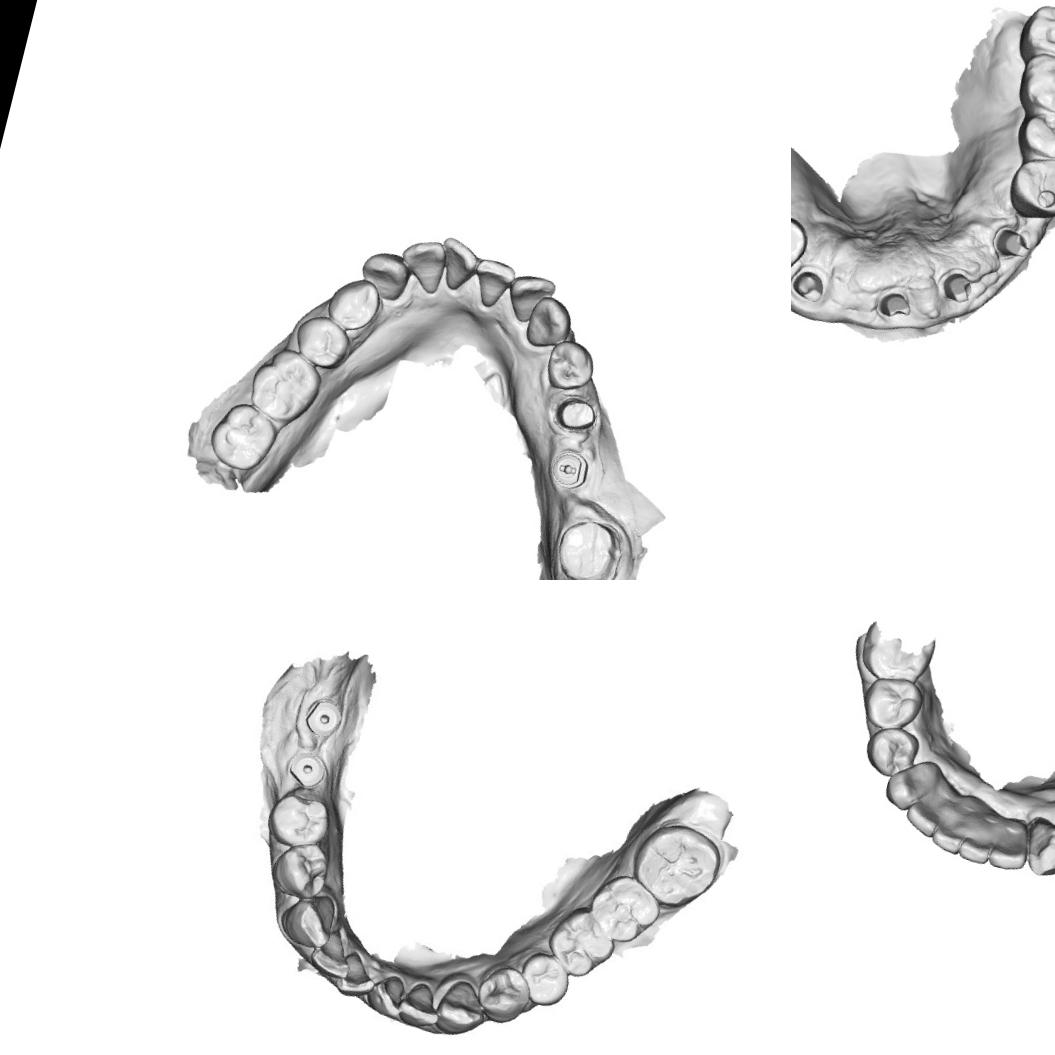abutment: (988, 219, 1036, 266), (932, 262, 979, 310), (872, 280, 916, 324), (791, 265, 829, 307)
canine: (878, 754, 940, 818), (430, 978, 490, 1036), (541, 335, 598, 396), (354, 244, 413, 302), (282, 895, 338, 951), (1014, 813, 1055, 883)
crown: (545, 509, 628, 580), (550, 391, 604, 438)
implant: (284, 746, 328, 788), (304, 693, 344, 735)
implant_minus: (545, 446, 594, 494)
incisor: (393, 233, 450, 297), (521, 290, 577, 354), (501, 268, 558, 328), (899, 776, 950, 841), (431, 233, 483, 294), (983, 818, 1035, 878), (953, 807, 1003, 867), (467, 255, 518, 312), (924, 797, 971, 858), (311, 932, 355, 976), (396, 981, 439, 1026), (366, 971, 405, 1016), (336, 957, 372, 994)
molar: (242, 341, 328, 435), (629, 820, 718, 906), (204, 396, 282, 476), (585, 872, 659, 944), (548, 907, 618, 974), (1012, 0, 1055, 79), (1012, 48, 1055, 124)
premolar: (855, 668, 927, 738), (1000, 149, 1055, 229), (288, 310, 356, 372), (266, 786, 331, 850), (859, 720, 924, 784), (321, 270, 384, 336), (476, 962, 537, 1024), (270, 839, 330, 897), (1010, 101, 1055, 169), (520, 952, 572, 1006), (791, 206, 813, 288)
